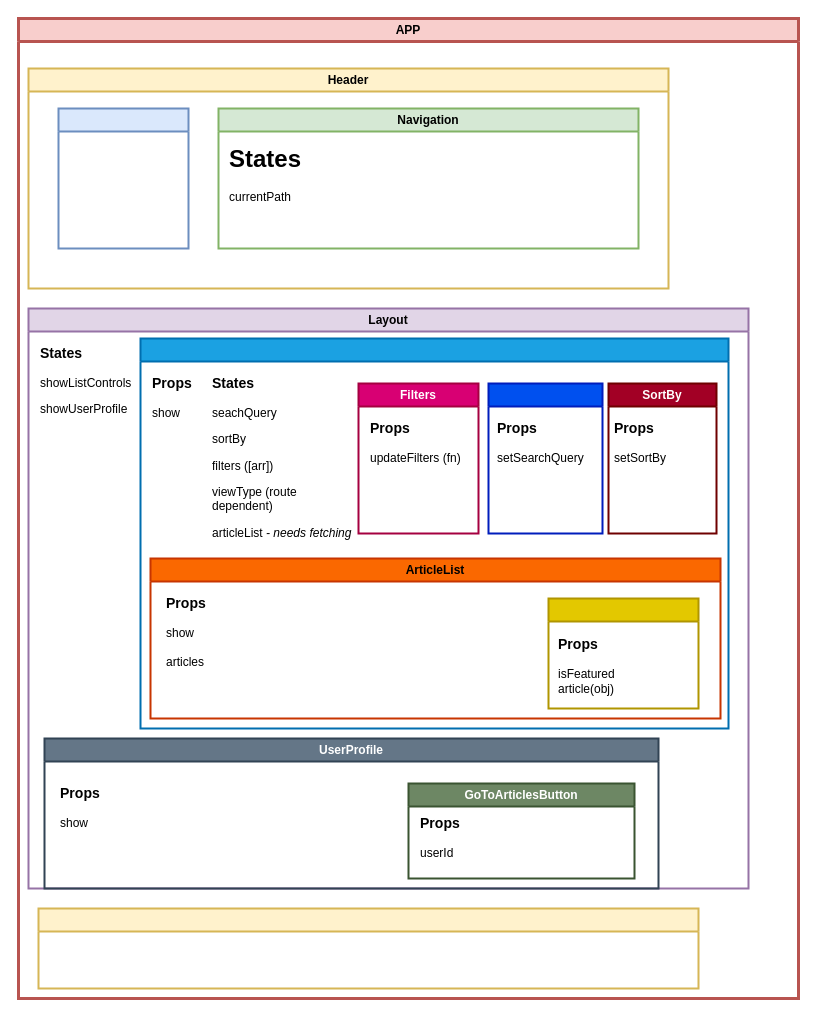
This 817x1017 diagram has some shape labels left out. Each missing label, with the box of its shape:
Branding: (57, 107, 189, 249)
Footer: (37, 907, 699, 989)
List Item: (547, 597, 699, 709)
ListControls: (139, 337, 729, 729)
SearchBar: (487, 382, 603, 534)
